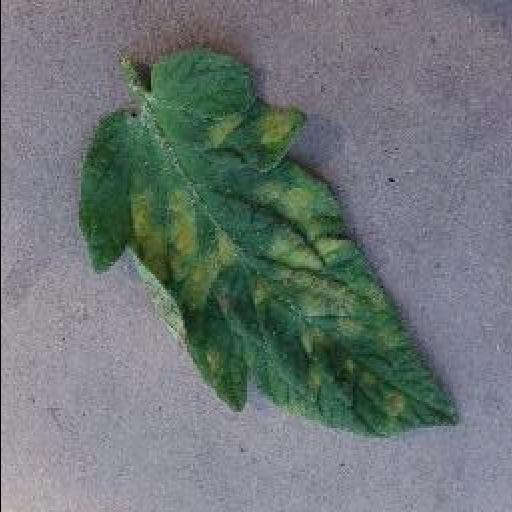disease_tomato: (74, 50, 460, 439)
